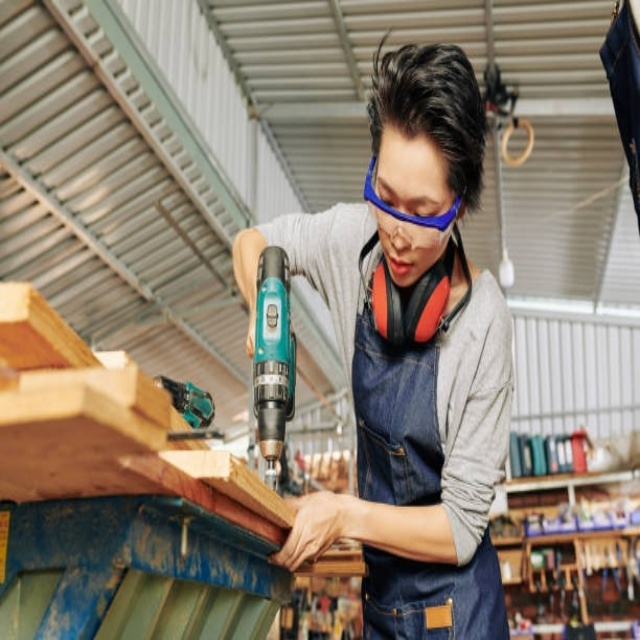Gafas: (364, 158, 463, 233)
Sin_guantes: (271, 487, 355, 571)
Sin_mascara: (382, 243, 421, 282)
